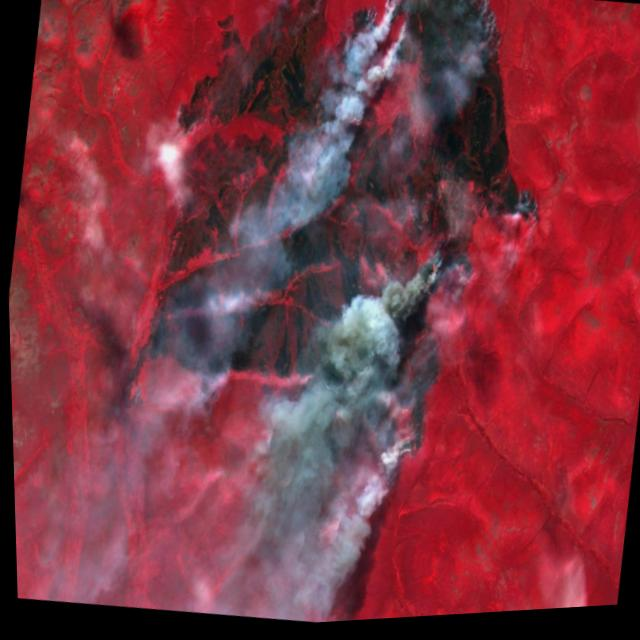fire: (188, 0, 576, 497)
